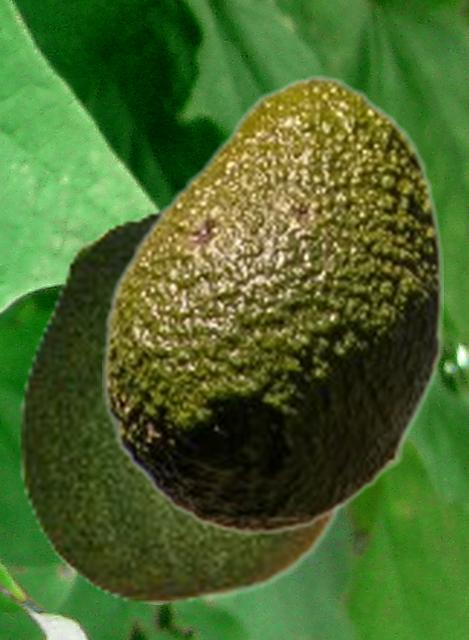avocado: (102, 75, 442, 536), (17, 203, 351, 603)
